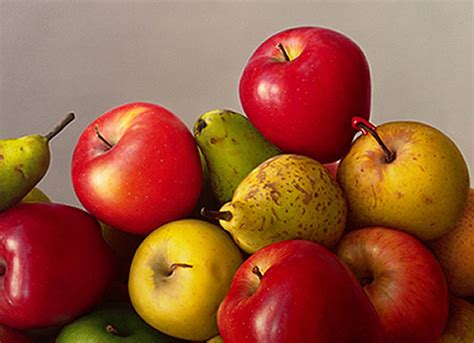apple: (239, 24, 375, 161), (216, 238, 390, 343), (69, 101, 206, 230), (335, 114, 469, 244), (116, 220, 246, 337)
